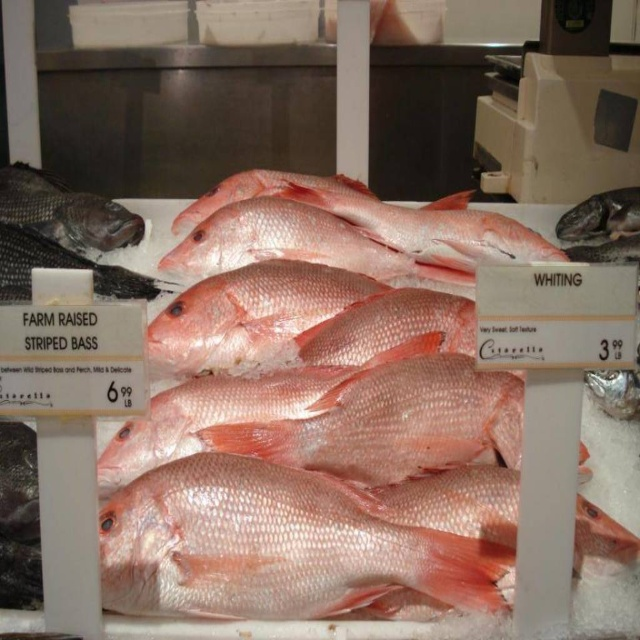Fish: (0, 161, 640, 618)
